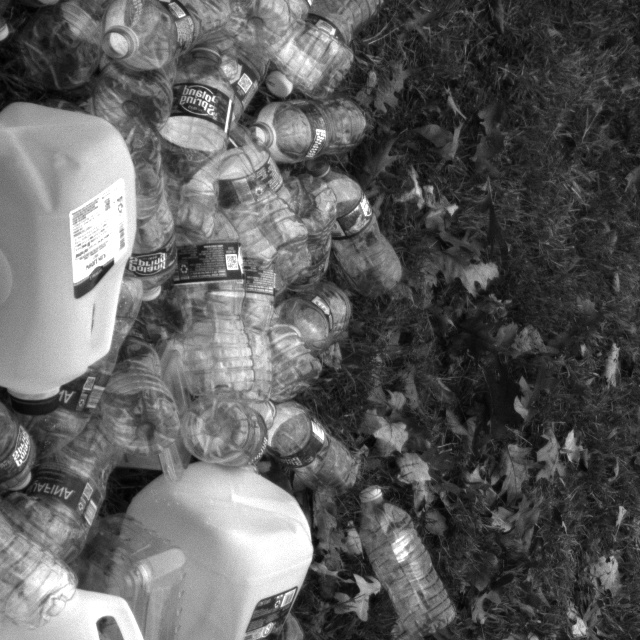bottle: (157, 22, 254, 247), (333, 468, 456, 640), (258, 0, 398, 125), (299, 177, 421, 318), (243, 85, 396, 177), (247, 382, 358, 494), (0, 463, 68, 639), (236, 97, 370, 168), (201, 0, 284, 66)
can: (0, 109, 161, 406), (102, 447, 327, 640), (0, 558, 208, 640)
container: (75, 506, 199, 640)
